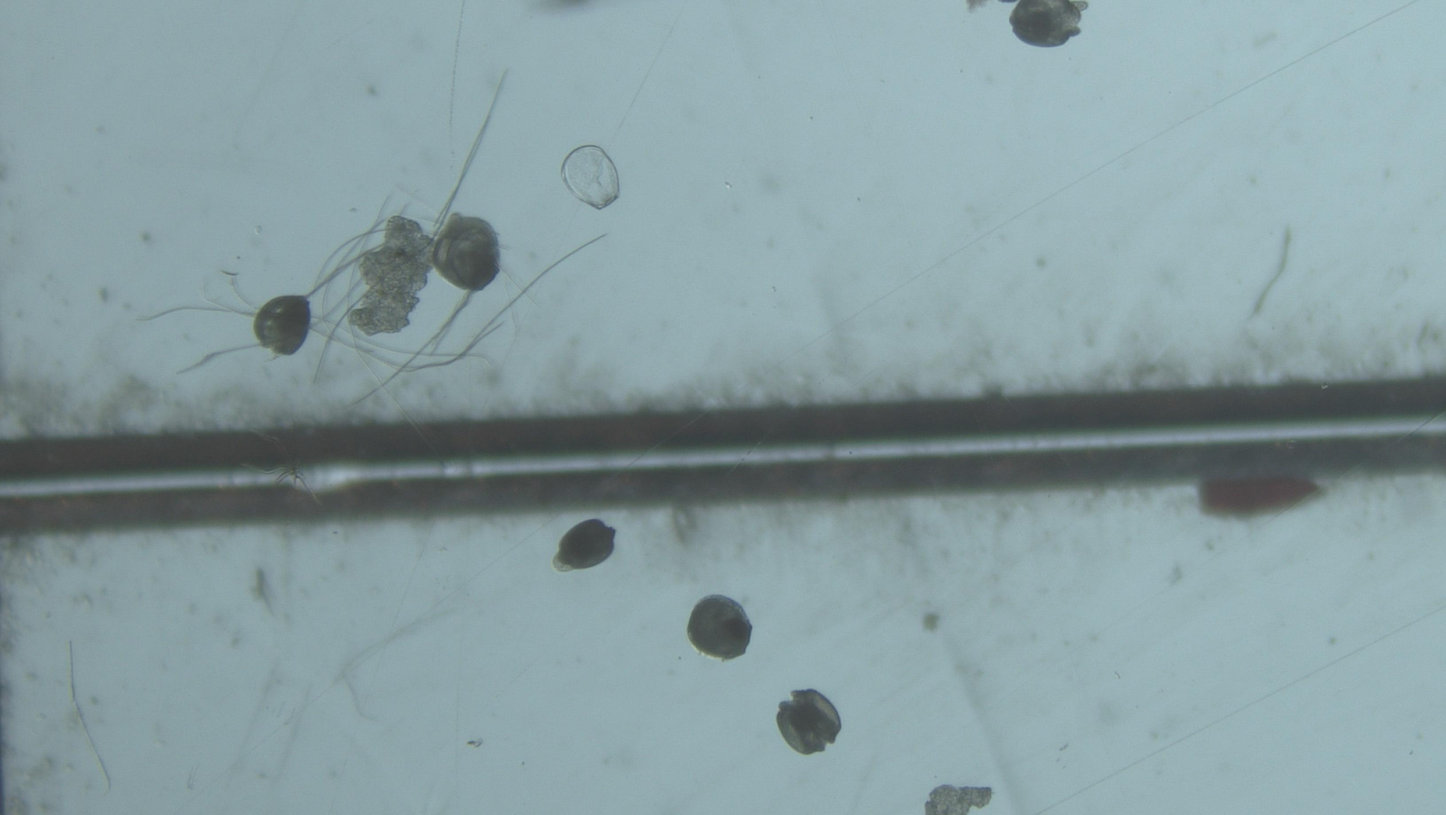dead: (561, 145, 619, 210)
live: (430, 214, 500, 291), (687, 595, 753, 660), (777, 690, 841, 755), (1010, 0, 1088, 47), (552, 519, 616, 573), (253, 296, 311, 355)
